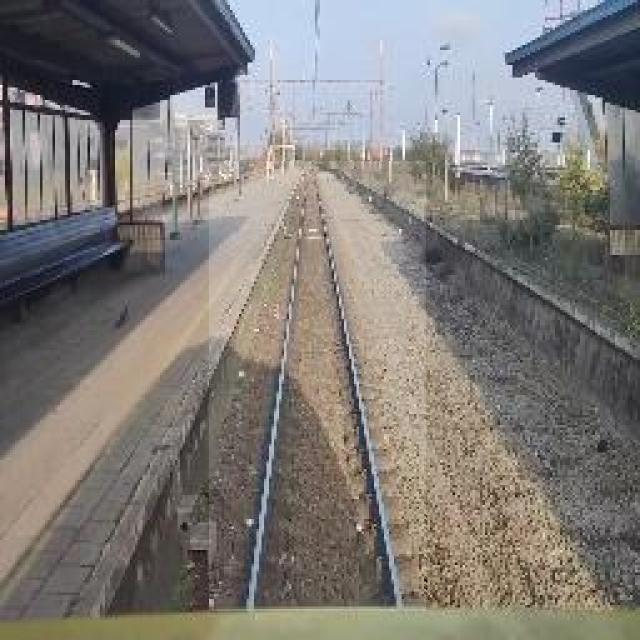rail: (210, 162, 427, 612)
